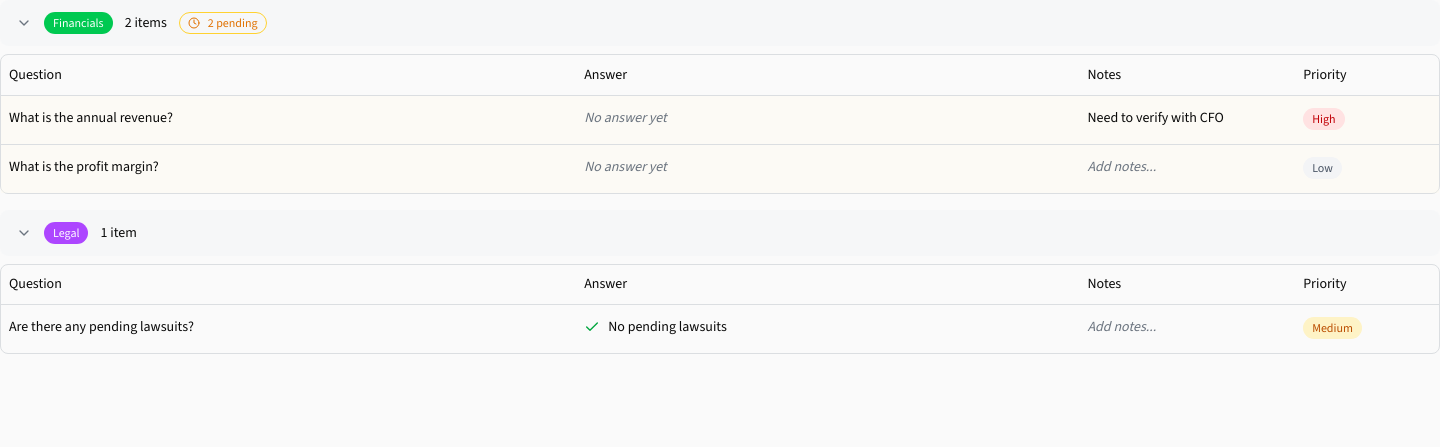
Test case: QATable › inline editing (AC3) › should enter edit mode when question cell is clicked
Click the text "What is the annual revenue?" at (91, 118), box [9,108,173,128]
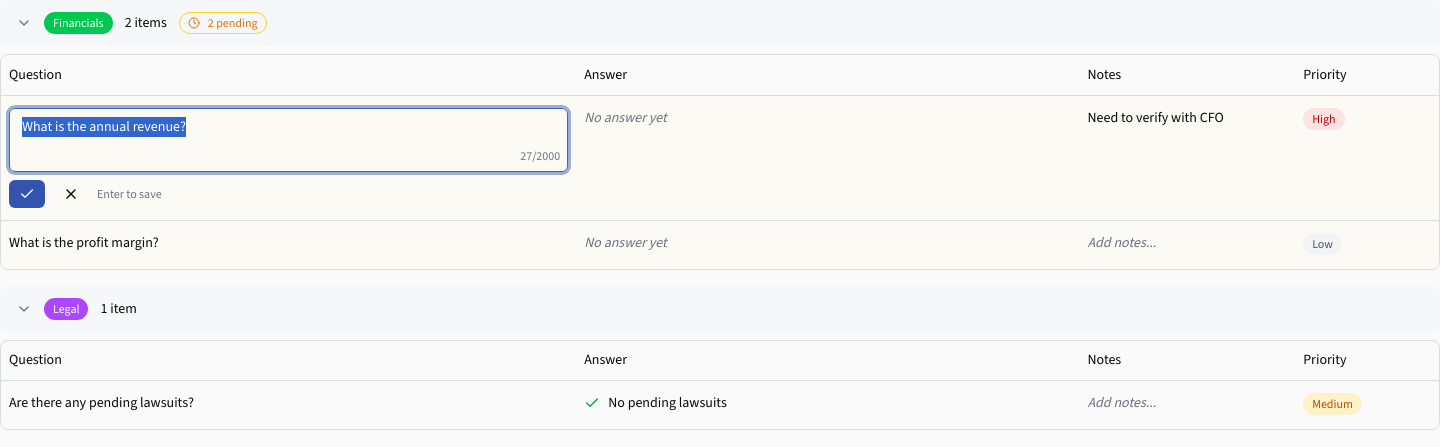
Now the text box holds "What is the annual revenue?", box [9,108,568,172]
